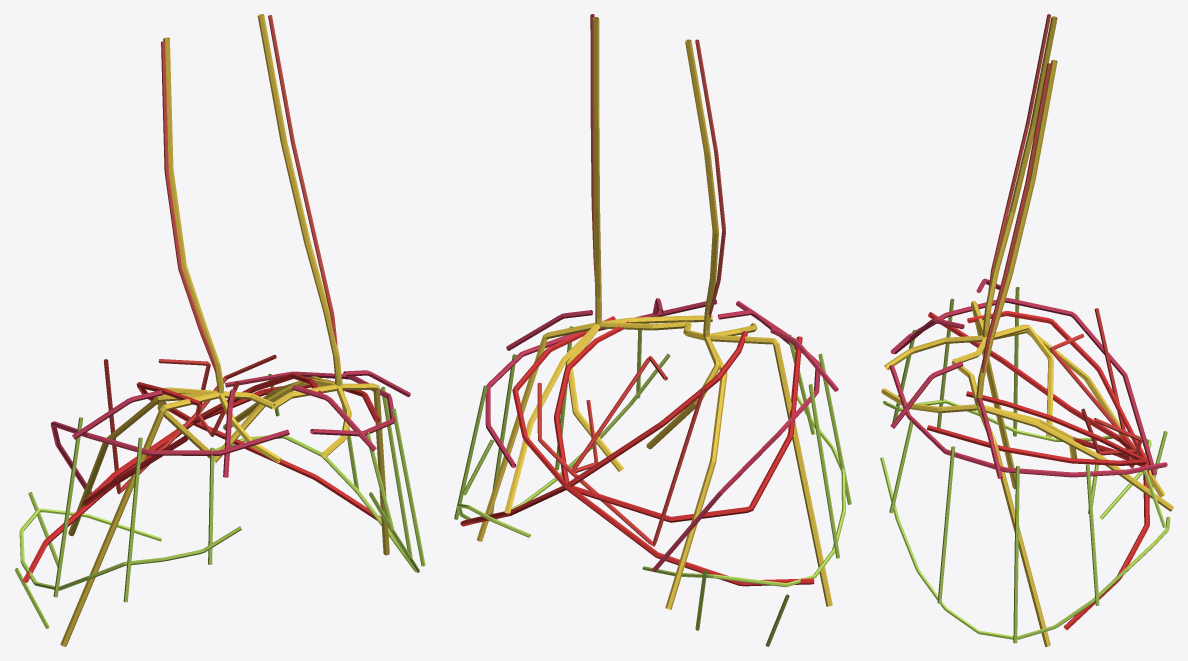
Rendered from anatomyverse-diasupply.glb.
The picture shows the model from 3 angles, left to right: view 1: azimuth 30°, elevation 25°; view 2: azimuth 150°, elevation 25°; view 3: azimuth 270°, elevation 25°; orthographic projection. The views are drawn at different scales.
Visible parts, largest first — view 1: phrenic_nerve_dia, lower_intercostal_n, musculophrenic_a, inferior_phrenic_a, pericardiophrenic_a, superior_phrenic_a; view 2: phrenic_nerve_dia, inferior_phrenic_a, lower_intercostal_n, musculophrenic_a, superior_phrenic_a, pericardiophrenic_a; view 3: phrenic_nerve_dia, lower_intercostal_n, inferior_phrenic_a, musculophrenic_a, pericardiophrenic_a, superior_phrenic_a.
Boxes of the visible parts, bbox=[...] form: phrenic_nerve_dia: bbox=[60, 14, 389, 646]; lower_intercostal_n: bbox=[14, 374, 425, 628]; musculophrenic_a: bbox=[50, 370, 410, 494]; inferior_phrenic_a: bbox=[23, 372, 381, 582]; pericardiophrenic_a: bbox=[161, 15, 337, 372]; superior_phrenic_a: bbox=[103, 354, 276, 493]; phrenic_nerve_dia: bbox=[476, 17, 832, 609]; inferior_phrenic_a: bbox=[460, 316, 814, 586]; lower_intercostal_n: bbox=[454, 326, 851, 646]; musculophrenic_a: bbox=[485, 298, 838, 572]; superior_phrenic_a: bbox=[537, 355, 705, 546]; pericardiophrenic_a: bbox=[590, 14, 725, 317]; phrenic_nerve_dia: bbox=[881, 16, 1173, 646]; lower_intercostal_n: bbox=[880, 287, 1170, 643]; inferior_phrenic_a: bbox=[927, 311, 1149, 629]; musculophrenic_a: bbox=[889, 278, 1167, 478]; pericardiophrenic_a: bbox=[981, 14, 1050, 373]; superior_phrenic_a: bbox=[1050, 308, 1142, 468].
Size of the model in its own units: 0.2609 by 0.3995 by 0.1958.
